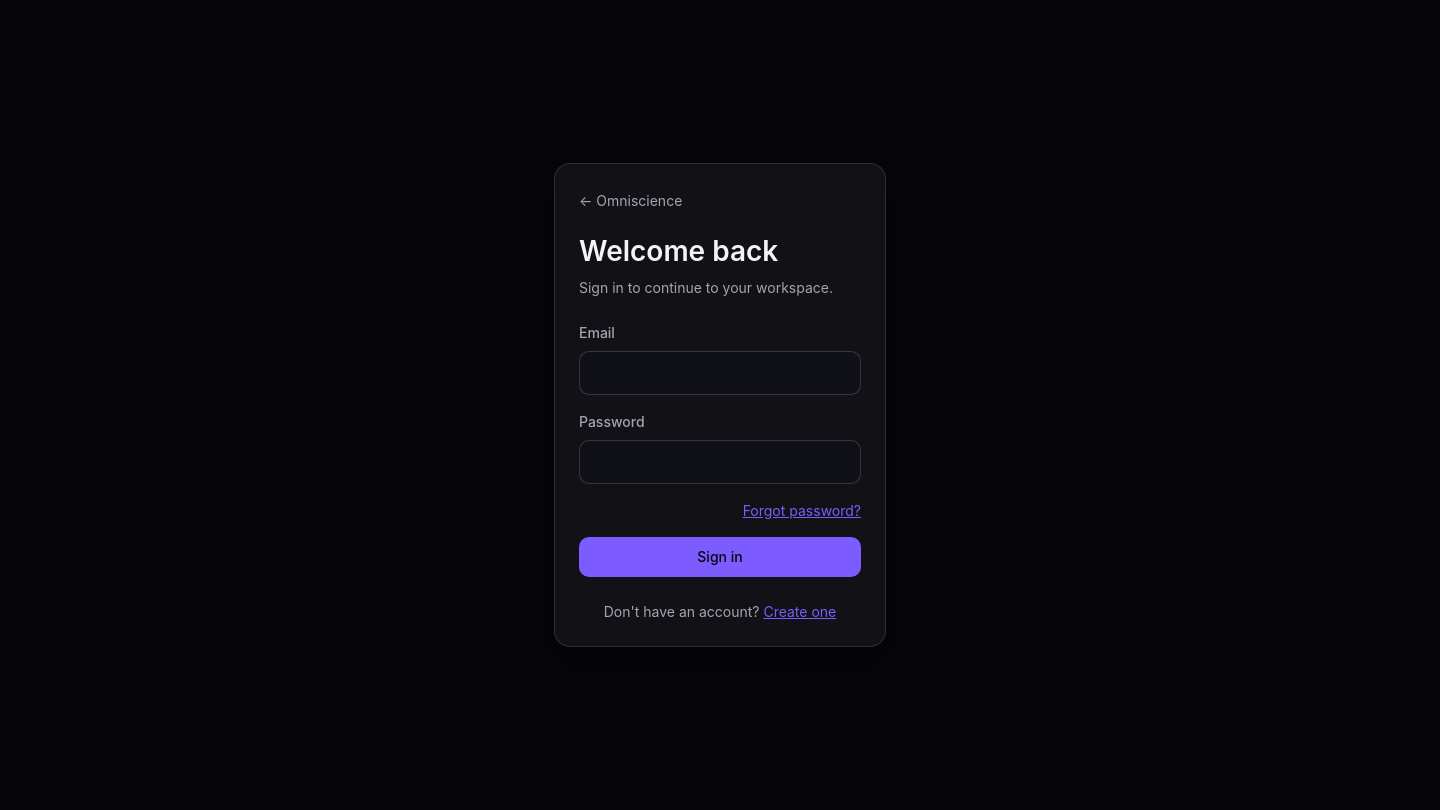
ProtectedRoute + AuthContext bootstrap › returns to the originally-requested protected route after signing in
This screenshot has width=1440, height=810.
Expected: the heading "Welcome back" is shown, [579,234,778,268]
Type "person@example.com" into the field labelled "Email".
click(720, 373); type("person@example.com")  # box [579,351,861,395]
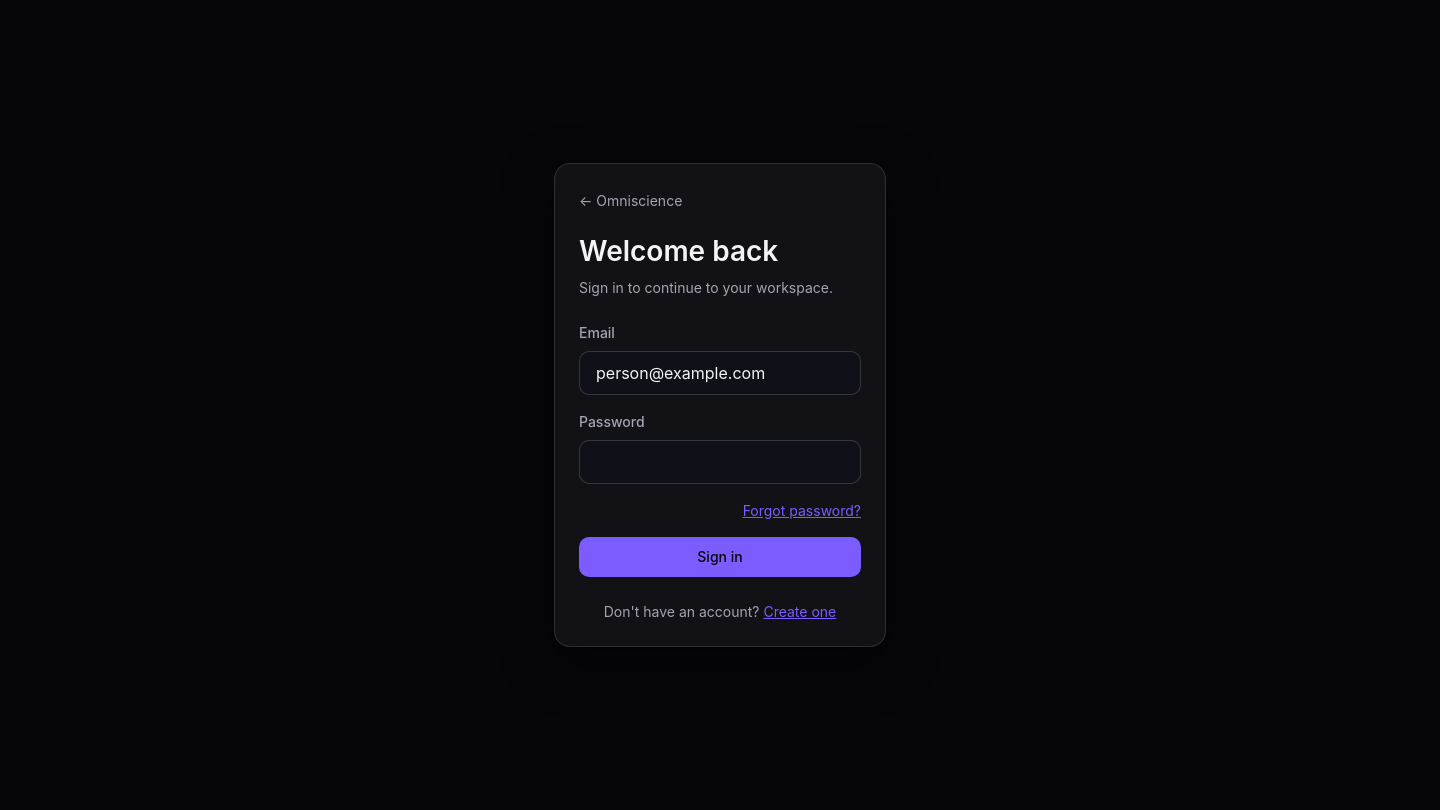
Type "hunter2-Secret!" into the password field labelled "Password".
click(720, 462); type("hunter2-Secret!")  # box [579,440,861,484]
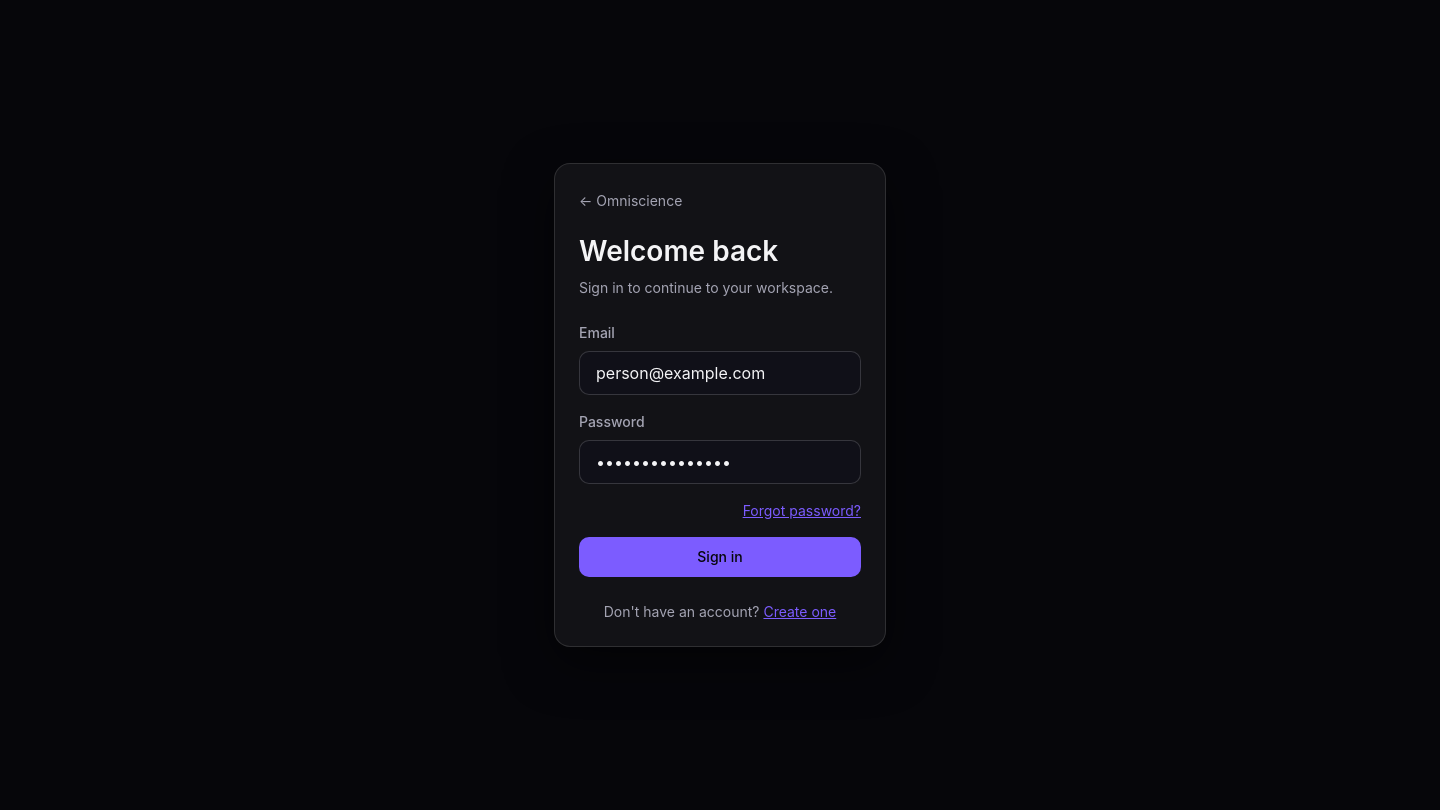
Submit the form "Sign in", box [579,322,861,577]
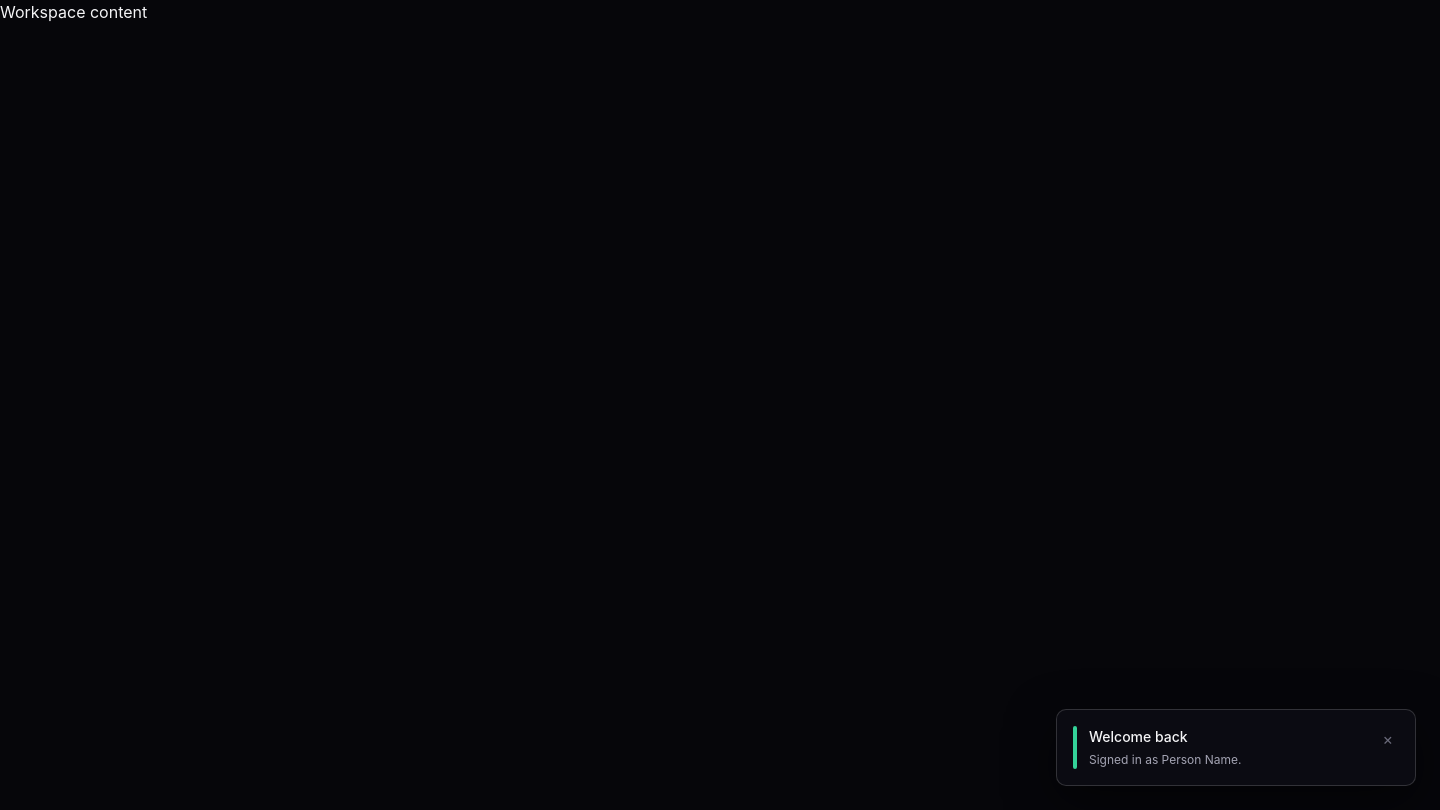
Result: the text "Workspace content" is shown at [0,2,147,22]
